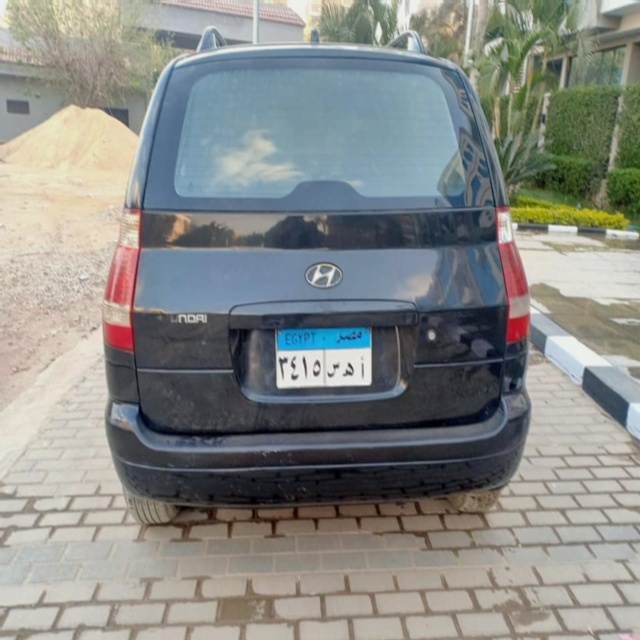License Plate: (274, 324, 373, 390)
